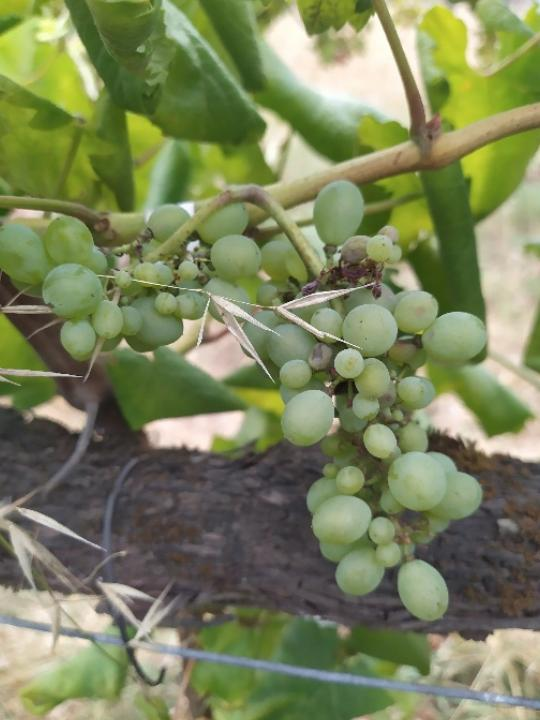grape: (0, 181, 488, 629)
